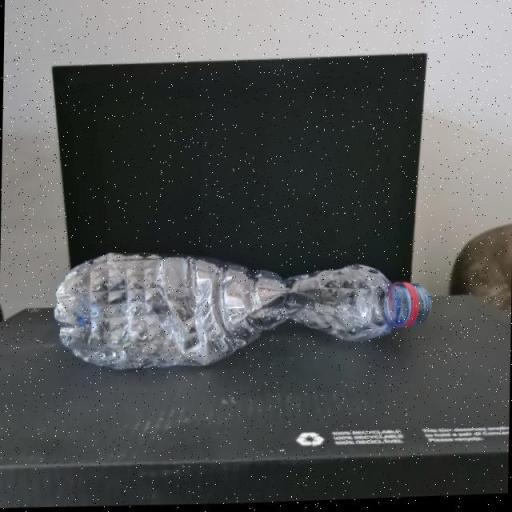plastic: (48, 215, 439, 386)
